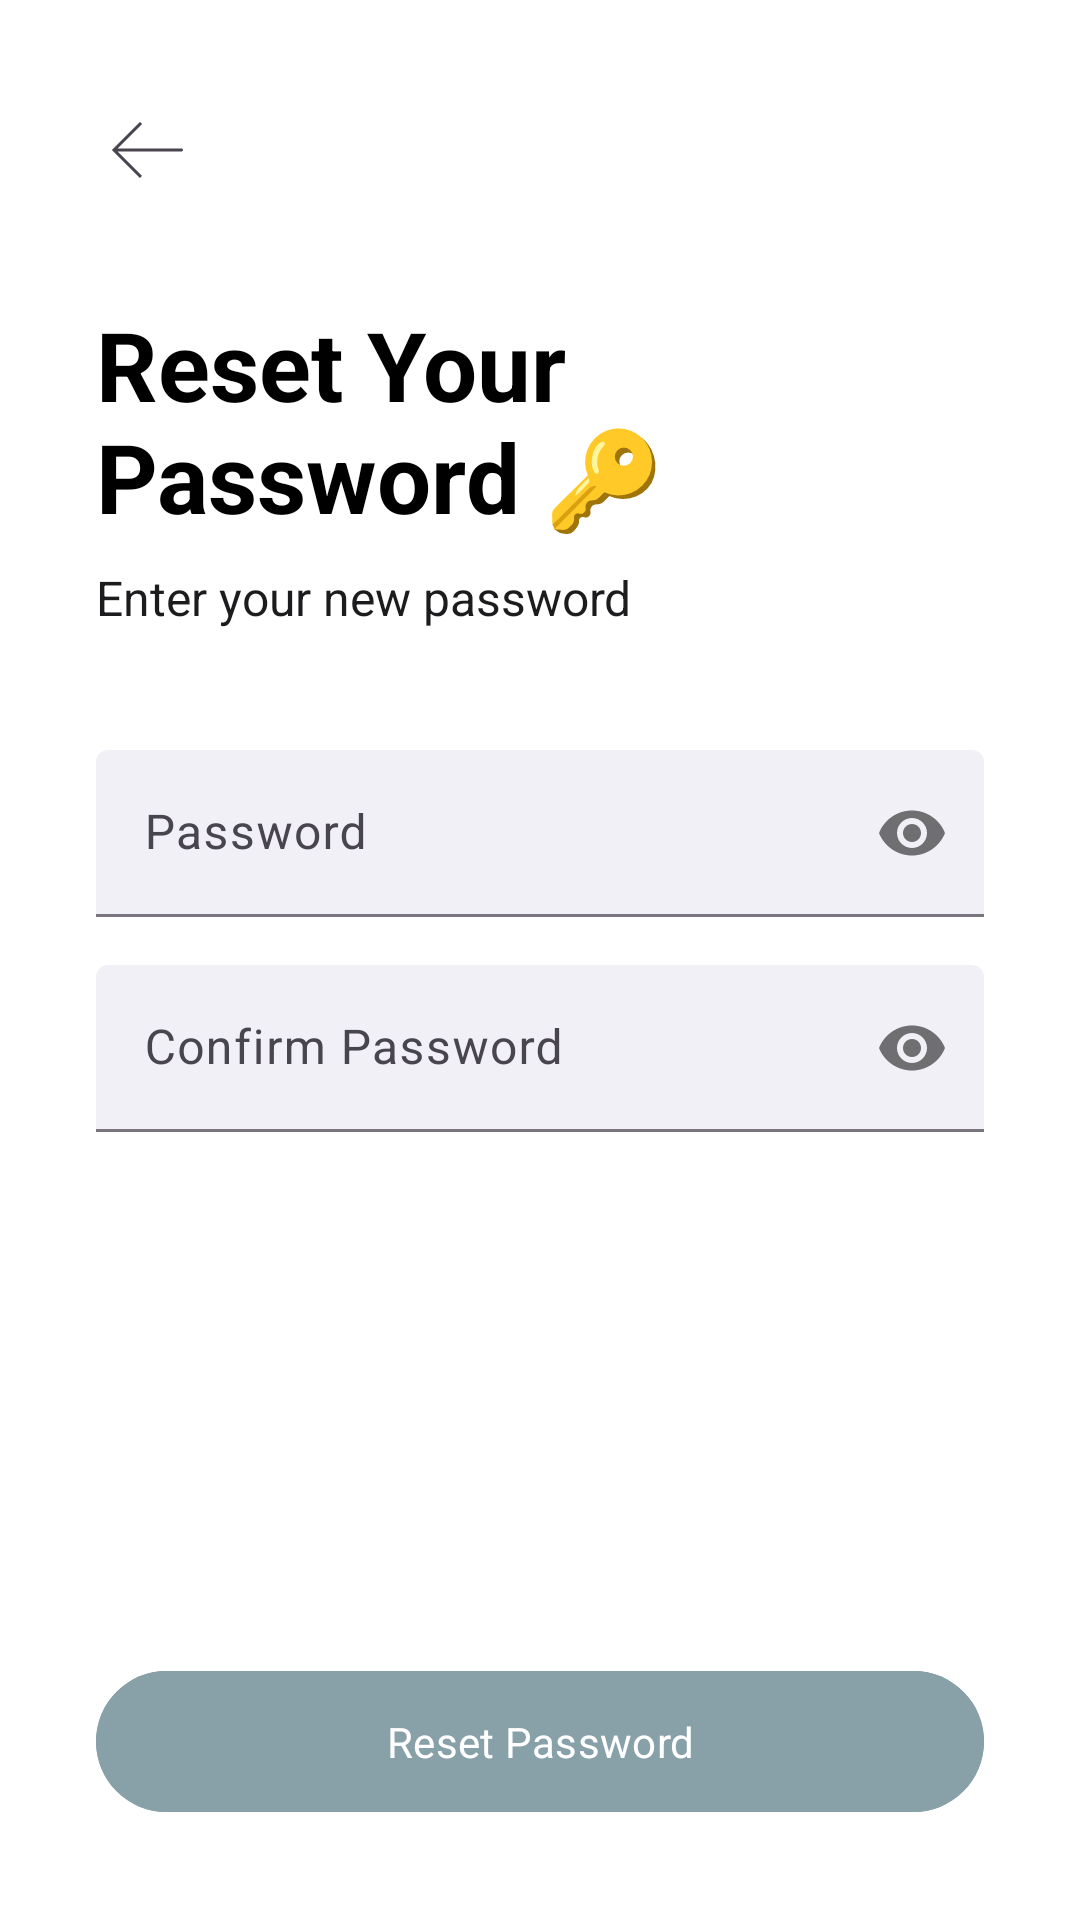

Named icons in this screenshot (1080px x 1920px) and their centers, (x,y):
Back button: (147,150)
